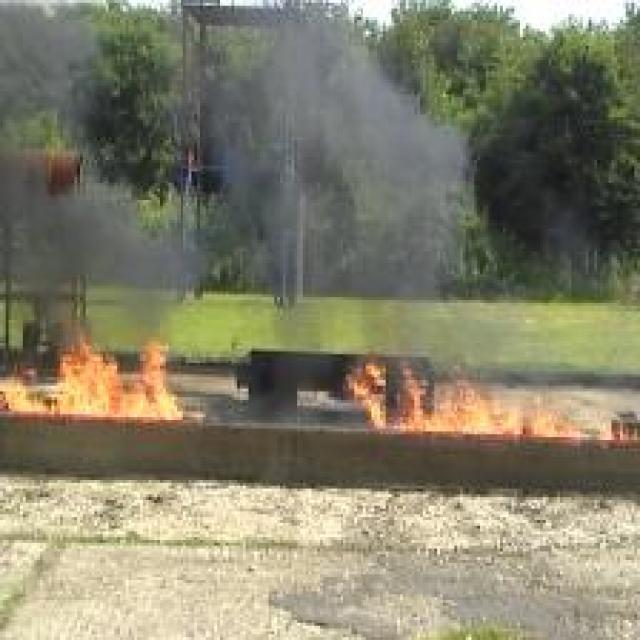Fire: (348, 361, 640, 441), (0, 326, 203, 420)
